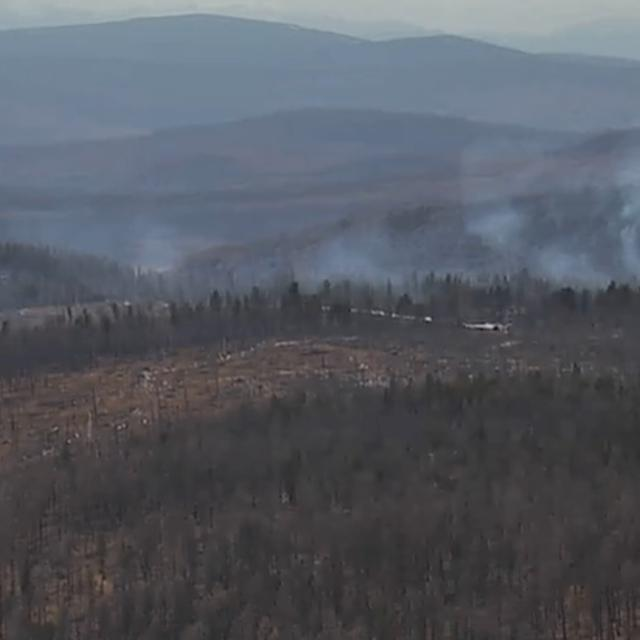Smoke: (0, 130, 640, 332)
